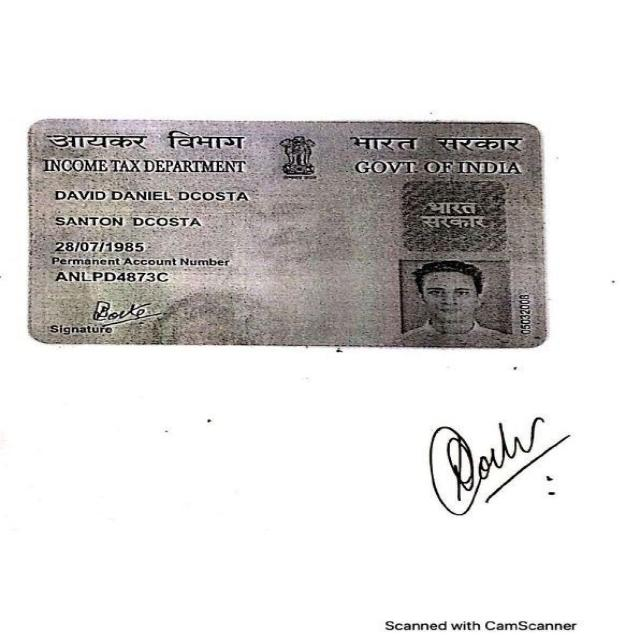pan_card: (27, 118, 545, 347)
